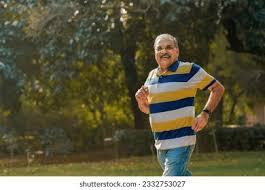Human: (135, 34, 217, 183)
